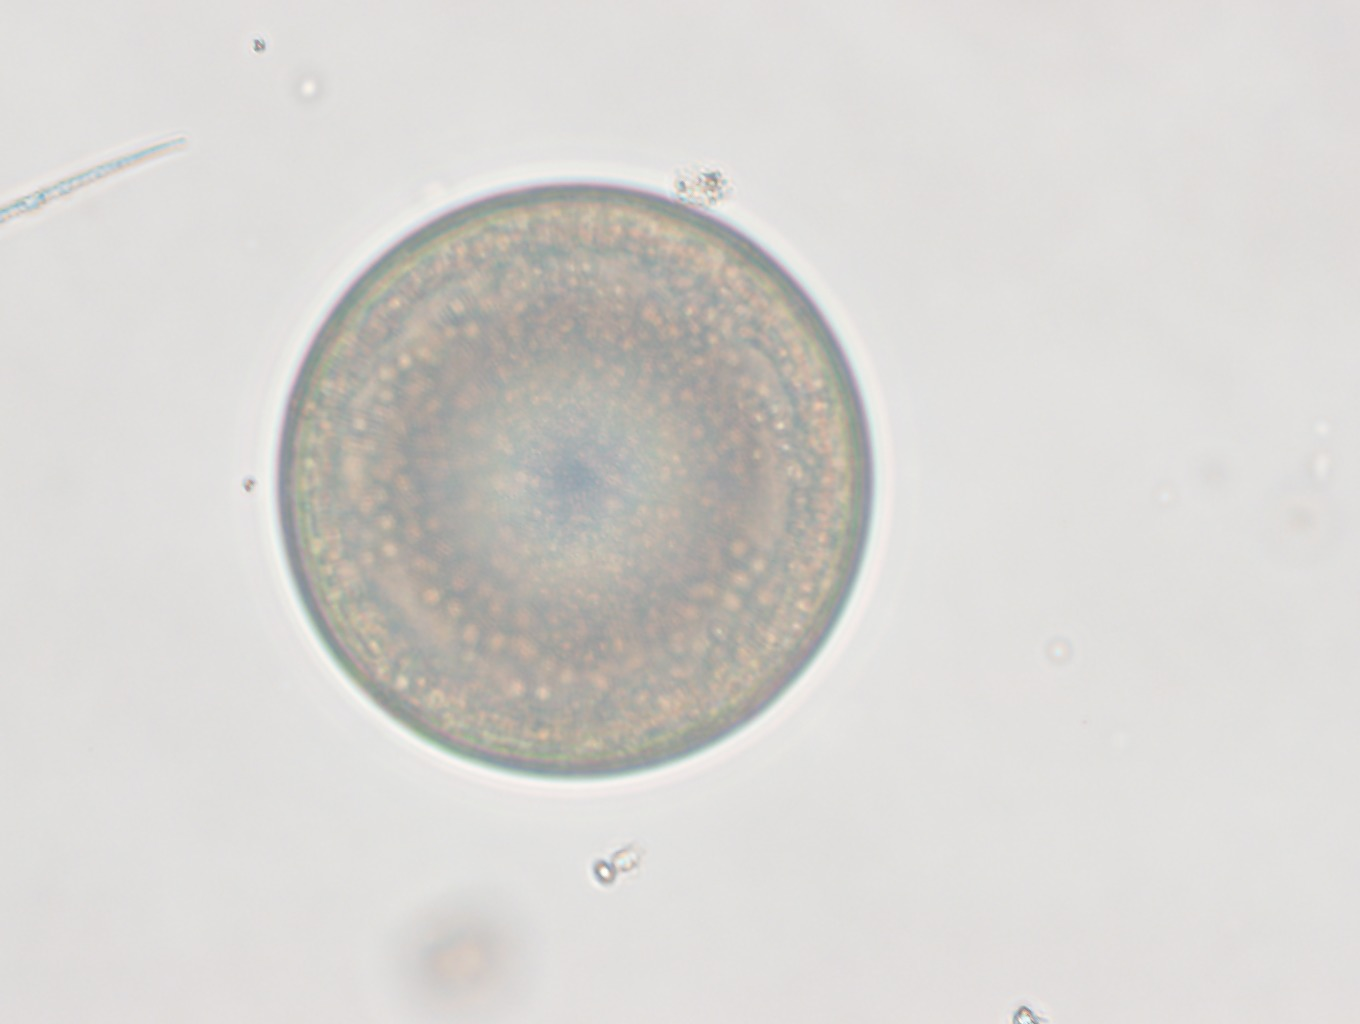coscinodiscus: (277, 180, 875, 778)
